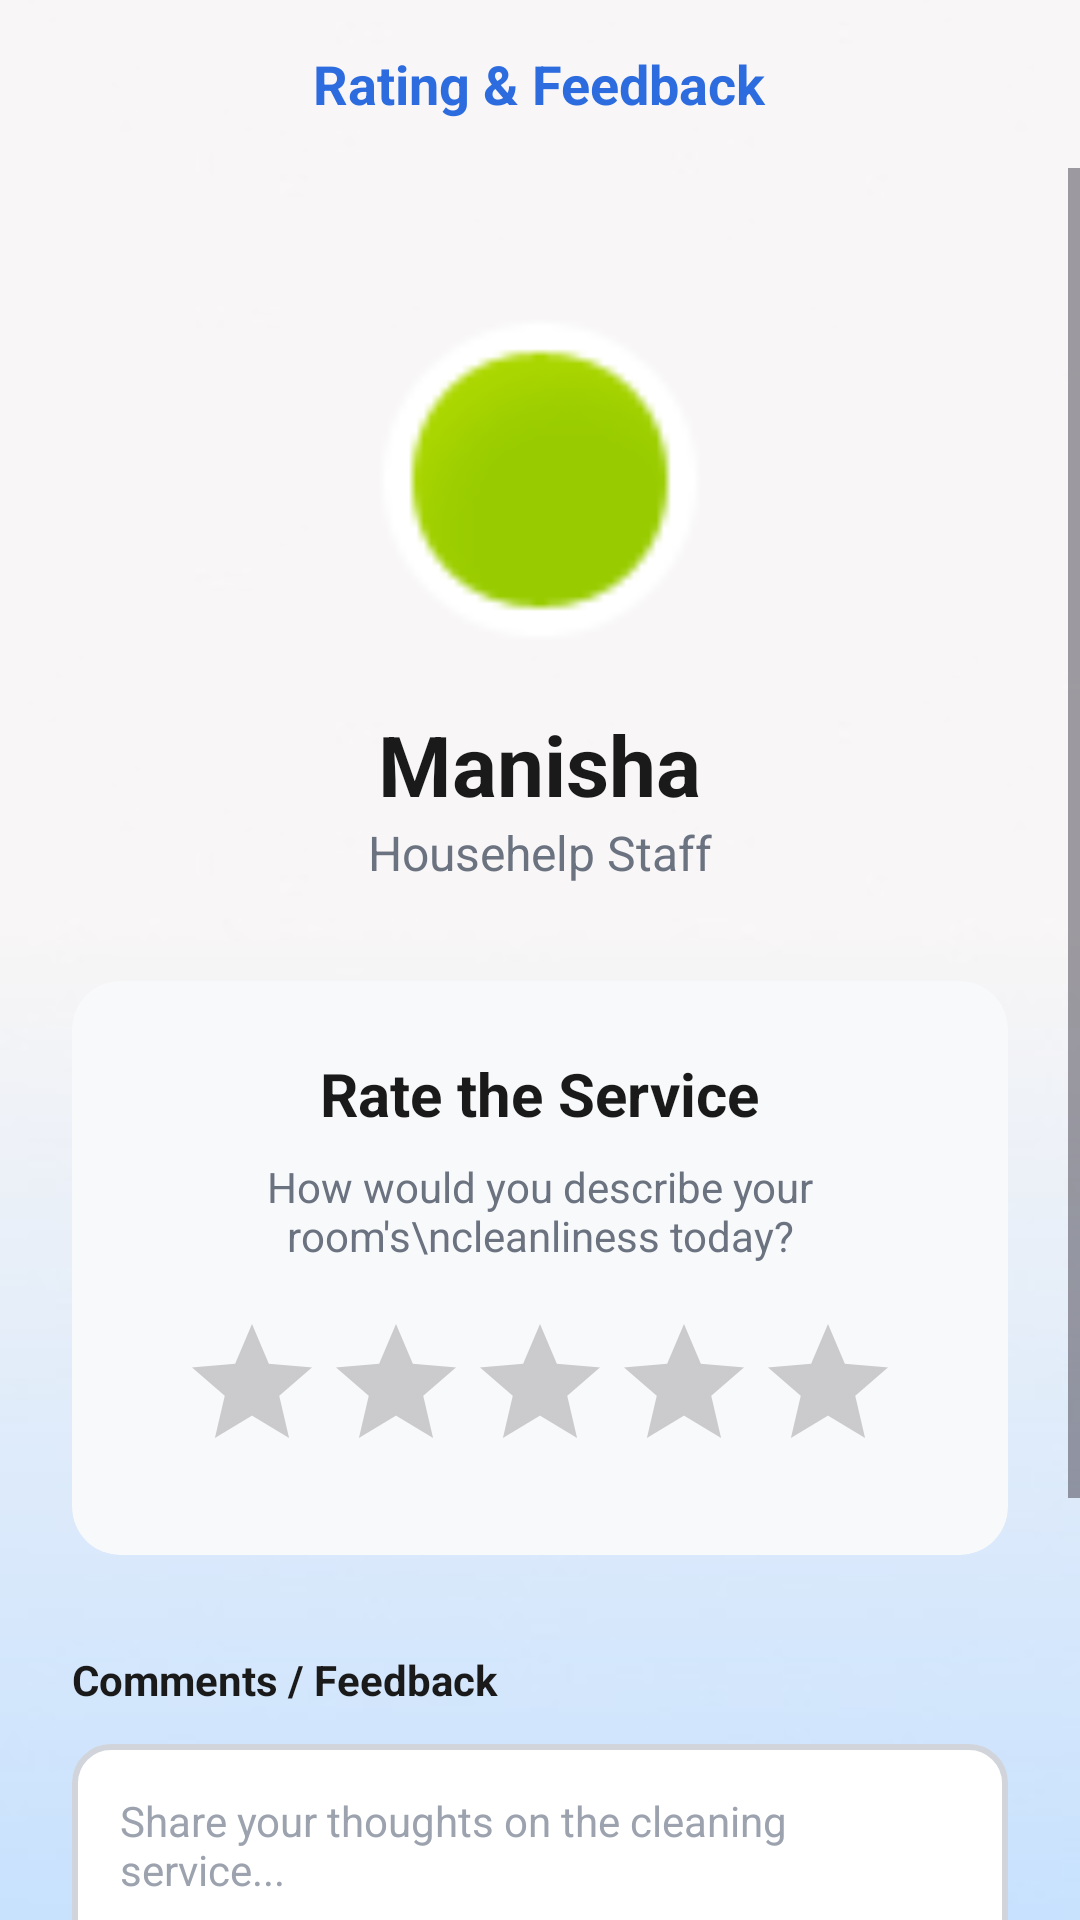

Icon bounding boxes for this 1080px×1920px phone screenshot, format (x1, y1, x2, y2):
presence online: (410, 350, 670, 610)
